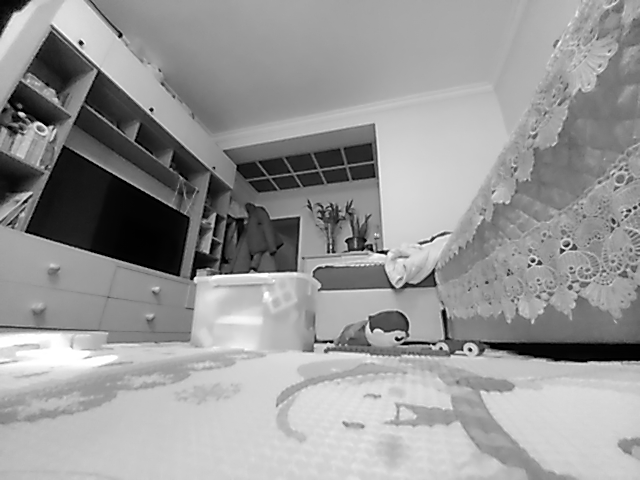toy: (336, 308, 411, 348), (430, 337, 487, 358)
